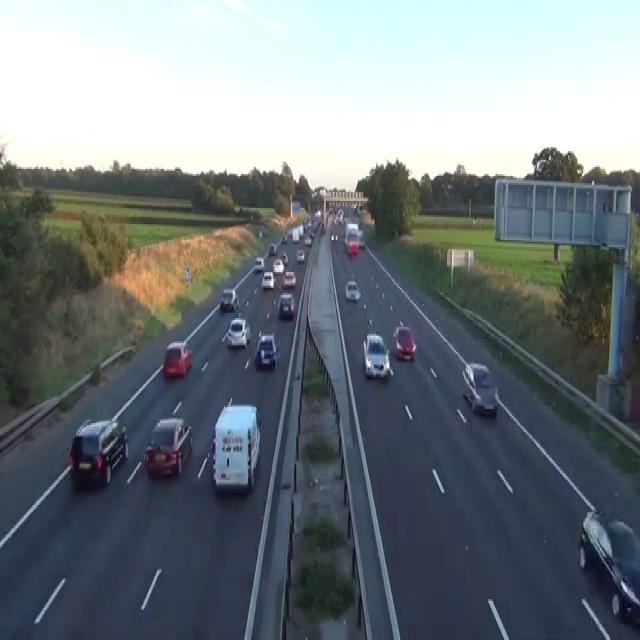Car: (578, 506, 639, 626), (69, 418, 128, 487), (143, 416, 192, 478), (461, 361, 499, 416), (362, 332, 391, 378), (162, 341, 192, 377), (392, 323, 416, 361), (226, 316, 251, 348), (256, 332, 277, 368), (277, 292, 295, 318), (220, 288, 238, 311), (344, 279, 361, 301), (261, 270, 274, 290), (282, 270, 296, 288), (346, 237, 358, 254), (272, 258, 284, 274), (253, 256, 264, 272), (346, 222, 358, 235), (357, 229, 365, 247), (335, 208, 344, 224), (367, 318, 377, 332), (295, 249, 304, 263), (280, 251, 288, 265), (291, 228, 299, 242), (472, 215, 482, 226), (268, 242, 276, 254), (304, 235, 312, 245), (330, 233, 338, 242), (298, 224, 304, 236), (314, 210, 321, 220), (281, 233, 287, 243), (287, 228, 292, 236), (258, 228, 262, 236)
Truck: (211, 397, 260, 492)
